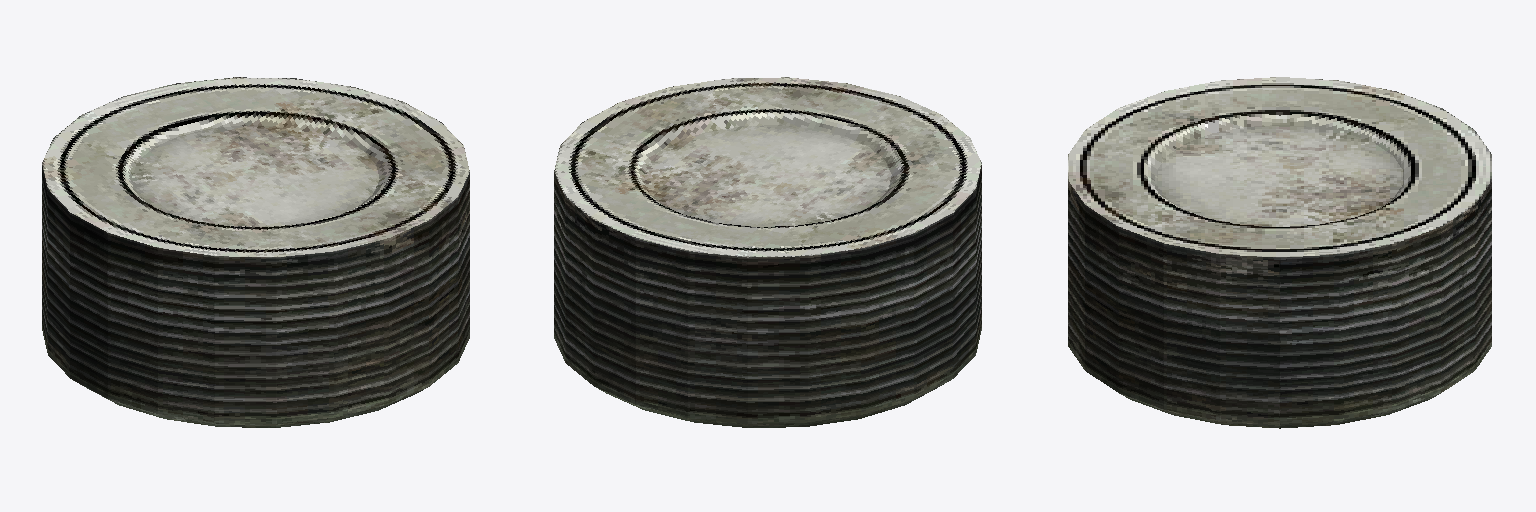
The picture shows the model from 3 angles: view 1: azimuth 30°, elevation 25°; view 2: azimuth 150°, elevation 25°; view 3: azimuth 270°, elevation 25°; orthographic projection.
Parts seen in each view (by area): view 1: AA_Kitchen_Plates01_St; view 2: AA_Kitchen_Plates01_St; view 3: AA_Kitchen_Plates01_St.
Boxes of the visible parts, box(x1,y1,x2,y2) form: AA_Kitchen_Plates01_St: box(42, 77, 469, 427); AA_Kitchen_Plates01_St: box(554, 77, 981, 427); AA_Kitchen_Plates01_St: box(1068, 77, 1491, 428).
Size of the model in its own units: 48.51 by 22.14 by 48.04.
Materials: 1 (1 with a texture image).